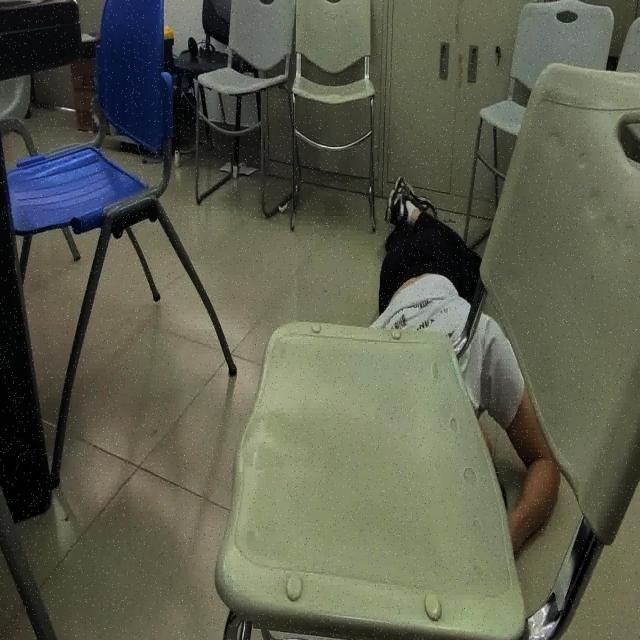fall: (376, 176, 568, 556)
